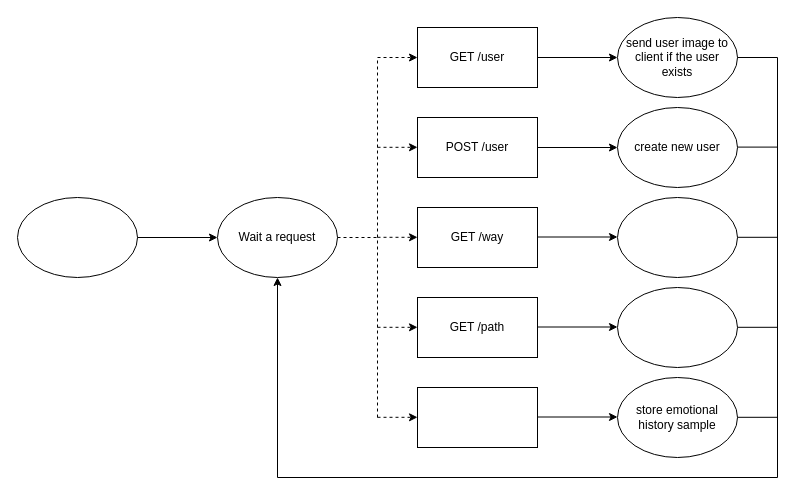
The diagram is 803 pixels wide and 503 high, and some of its shapes have lost their labels. Each missing label, with the box of its shape:
calculate path and send it to user: (616, 286, 738, 368)
POST /history: (416, 386, 538, 448)
send way to user: (616, 196, 738, 278)
START: (16, 196, 138, 278)
